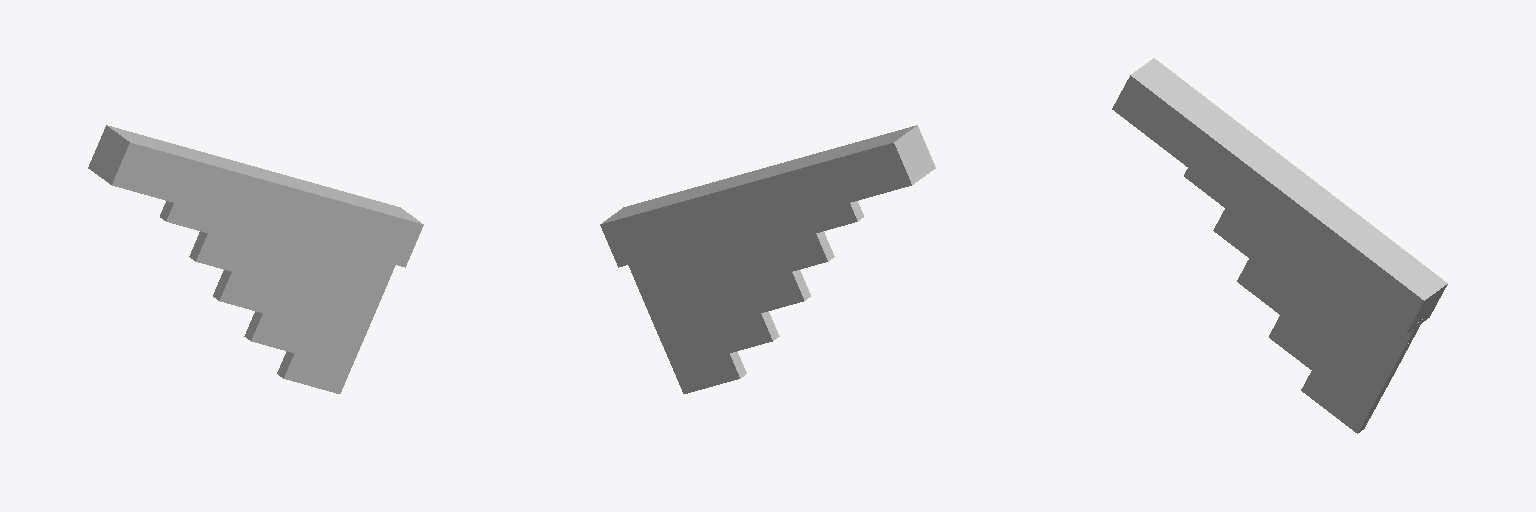
File: enemy_wings_right.obj
The picture shows the model from 3 angles: view 1: azimuth 30°, elevation 25°; view 2: azimuth 150°, elevation 25°; view 3: azimuth 330°, elevation 25°; orthographic projection.
Parts seen in each view (by area): view 1: ENEMY_RWING:WINGRpCube5, ENEMY_RWING:WINGRpCube7, ENEMY_RWING:WINGRpCube8, ENEMY_RWING:WINGRpCube6, ENEMY_RWING:WINGRpCube9, ENEMY_RWING:pCube10WINGR; view 2: ENEMY_RWING:WINGRpCube5, ENEMY_RWING:WINGRpCube7, ENEMY_RWING:WINGRpCube8, ENEMY_RWING:WINGRpCube6, ENEMY_RWING:WINGRpCube9, ENEMY_RWING:pCube10WINGR; view 3: ENEMY_RWING:WINGRpCube5, ENEMY_RWING:WINGRpCube7, ENEMY_RWING:WINGRpCube8, ENEMY_RWING:WINGRpCube9, ENEMY_RWING:WINGRpCube6, ENEMY_RWING:pCube10WINGR.
Part boxes in pixels (left/top/right/bottom): ENEMY_RWING:WINGRpCube5: left=88, top=125, right=423, bottom=267; ENEMY_RWING:WINGRpCube7: left=189, top=231, right=387, bottom=311; ENEMY_RWING:WINGRpCube8: left=213, top=270, right=375, bottom=340; ENEMY_RWING:WINGRpCube6: left=160, top=201, right=395, bottom=282; ENEMY_RWING:WINGRpCube9: left=244, top=311, right=362, bottom=368; ENEMY_RWING:pCube10WINGR: left=277, top=351, right=352, bottom=393; ENEMY_RWING:WINGRpCube5: left=600, top=125, right=935, bottom=267; ENEMY_RWING:WINGRpCube7: left=636, top=231, right=834, bottom=311; ENEMY_RWING:WINGRpCube8: left=648, top=270, right=810, bottom=340; ENEMY_RWING:WINGRpCube6: left=628, top=201, right=863, bottom=282; ENEMY_RWING:WINGRpCube9: left=661, top=311, right=779, bottom=368; ENEMY_RWING:pCube10WINGR: left=671, top=349, right=746, bottom=393; ENEMY_RWING:WINGRpCube5: left=1112, top=58, right=1447, bottom=334; ENEMY_RWING:WINGRpCube7: left=1213, top=209, right=1411, bottom=368; ENEMY_RWING:WINGRpCube8: left=1237, top=259, right=1398, bottom=391; ENEMY_RWING:WINGRpCube9: left=1269, top=315, right=1385, bottom=412; ENEMY_RWING:WINGRpCube6: left=1184, top=168, right=1423, bottom=345; ENEMY_RWING:pCube10WINGR: left=1301, top=370, right=1373, bottom=433.
Size of the model in its own units: 2.27 by 2.17 by 0.2996.